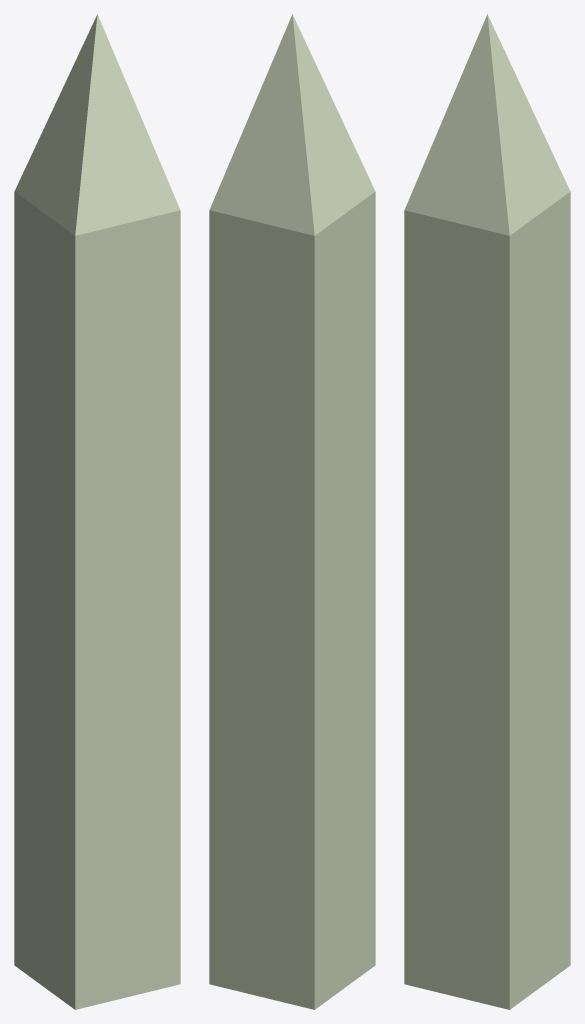
The model's file is Fence02_Post.fbx.
3 renders of one model, left to right at view 1: azimuth 30°, elevation 25°; view 2: azimuth 150°, elevation 25°; view 3: azimuth 330°, elevation 25°, orthographic.
Visible parts, largest first — view 1: Fence02_Post; view 2: Fence02_Post; view 3: Fence02_Post.
Part boxes in pixels (x1,y1,x2,y2): Fence02_Post: (14,14,180,1009); Fence02_Post: (209,14,375,1009); Fence02_Post: (404,14,570,1009).
Size of the model in its own units: 48.15 by 420 by 48.15.
